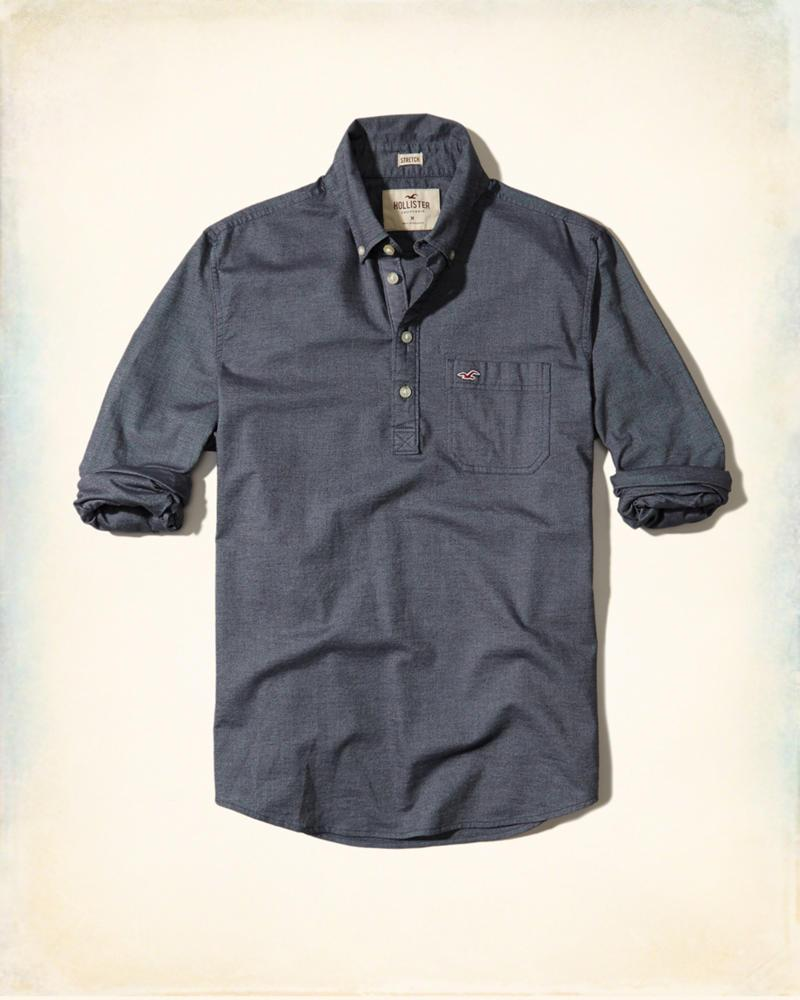teeshirt: (65, 112, 741, 869)
